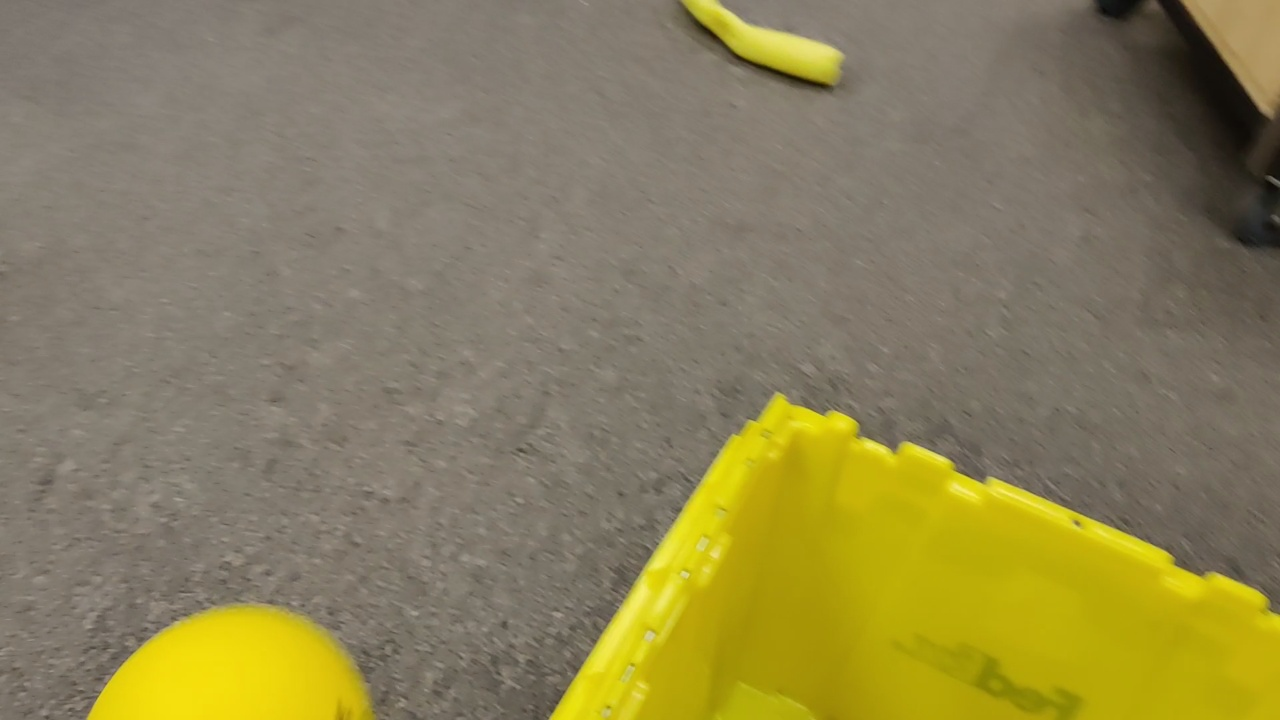Ball: (87, 602, 375, 720)
